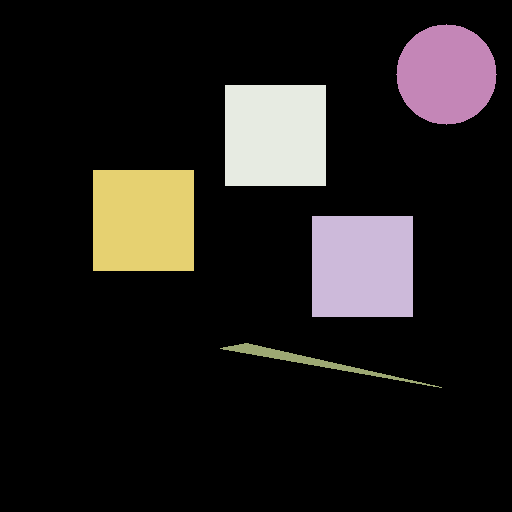circle: (396, 24, 496, 124)
square: (312, 216, 412, 316), (93, 170, 193, 270), (225, 85, 325, 185)
triangle: (220, 343, 441, 387)
